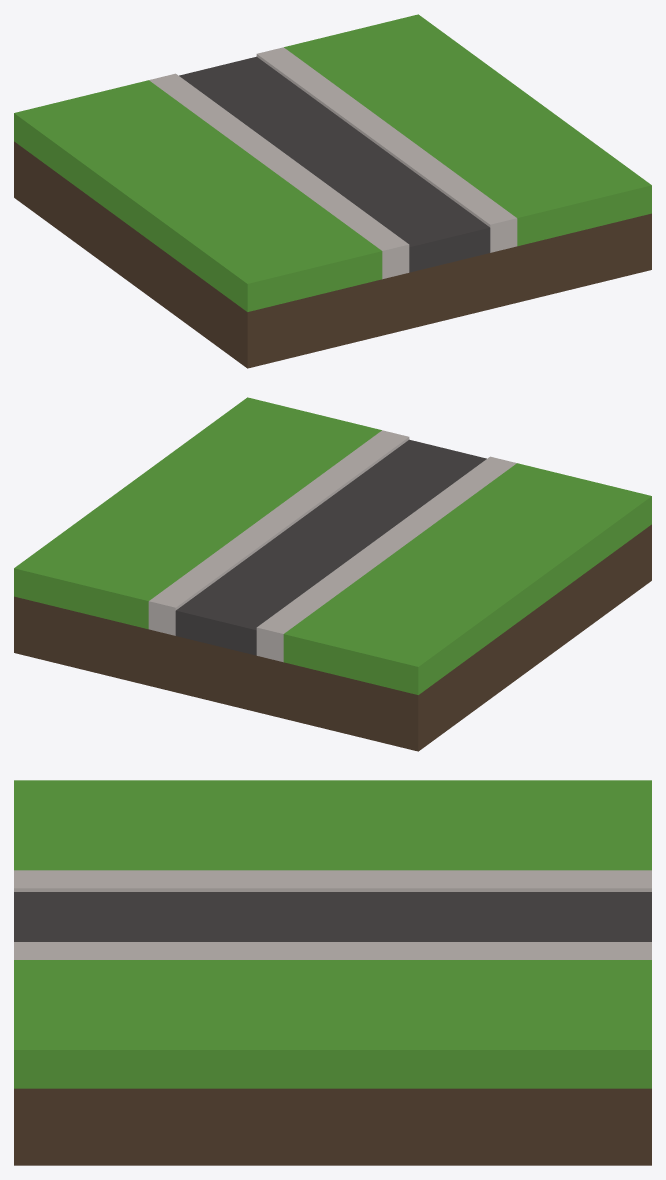
Rendered from tile-road-straight.glb.
3 renders of one model, top to bottom at view 1: azimuth 30°, elevation 25°; view 2: azimuth 150°, elevation 25°; view 3: azimuth 270°, elevation 25°, orthographic. The views are drawn at different scales.
Visible parts, largest first — view 1: tile-road-straight; view 2: tile-road-straight; view 3: tile-road-straight.
Part boxes in pixels (left/top/right/bottom): tile-road-straight: left=14, top=14, right=651, bottom=368; tile-road-straight: left=14, top=397, right=651, bottom=751; tile-road-straight: left=14, top=780, right=651, bottom=1165.
Size of the model in its own units: 30 by 6 by 30.
Materials: 1 (1 with a texture image).
